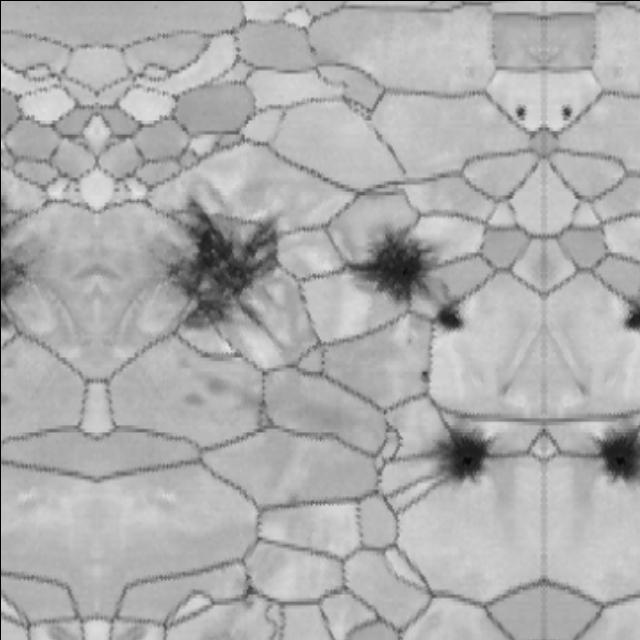good_void: (136, 184, 304, 369), (339, 203, 455, 319), (0, 185, 41, 342), (422, 414, 494, 487), (201, 366, 262, 414), (595, 420, 640, 484), (425, 297, 469, 337), (410, 361, 438, 394), (181, 388, 205, 410), (556, 98, 576, 122), (626, 297, 640, 330), (512, 99, 530, 121), (0, 388, 12, 408)
